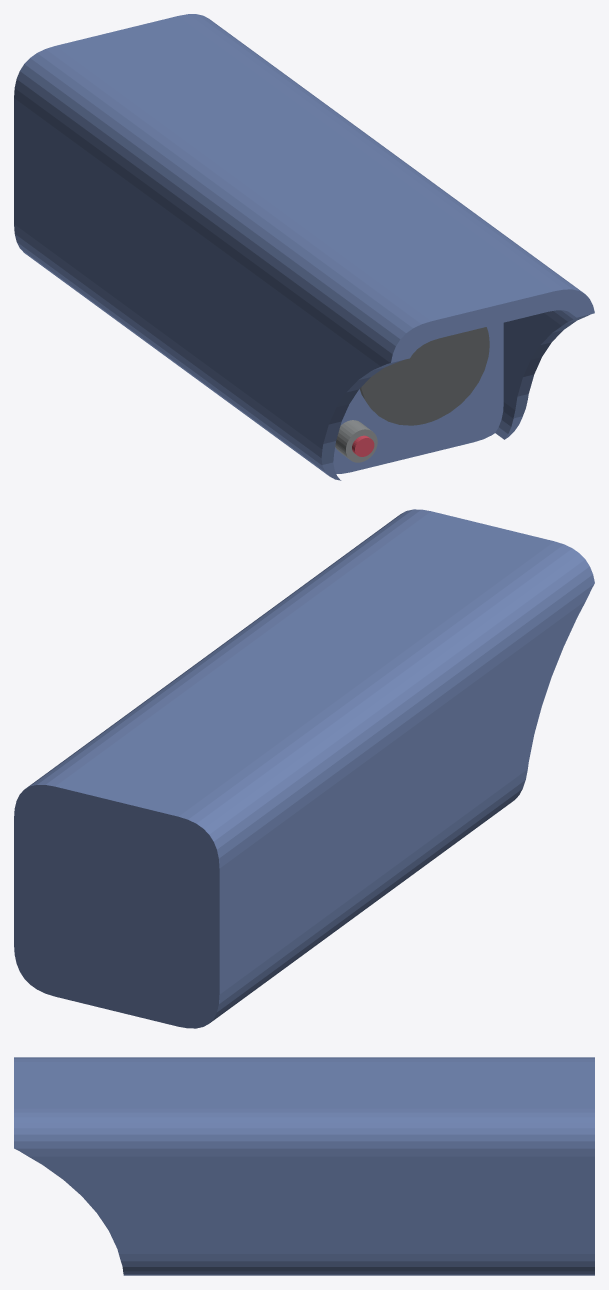
File: Planned Camera Purple.glb
3 views of the same model, one above another, from view 1: azimuth 30°, elevation 25°; view 2: azimuth 150°, elevation 25°; view 3: azimuth 270°, elevation 25° (orthographic). The views are drawn at different scales.
Parts seen in each view (by area): view 1: Mesh_Mesh_head_geo.001_lambert2SG.001; view 2: Mesh_Mesh_head_geo.001_lambert2SG.001; view 3: Mesh_Mesh_head_geo.001_lambert2SG.001.
Boxes of the visible parts, <box> form: Mesh_Mesh_head_geo.001_lambert2SG.001: <box>14,14,594,480</box>; Mesh_Mesh_head_geo.001_lambert2SG.001: <box>14,509,594,1028</box>; Mesh_Mesh_head_geo.001_lambert2SG.001: <box>14,1057,594,1275</box>.
Bounding box in the file's own units: 33.87 × 33.08 × 107.
